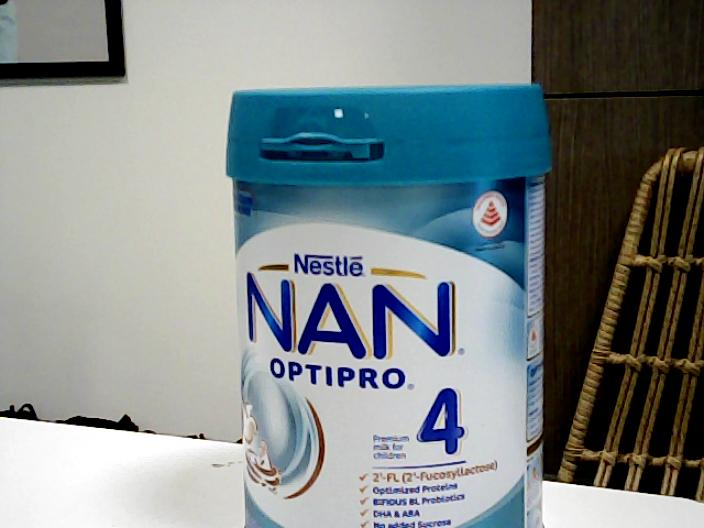Babymilk-powder_800-899g_Halal_Healthy: (226, 80, 547, 528)
